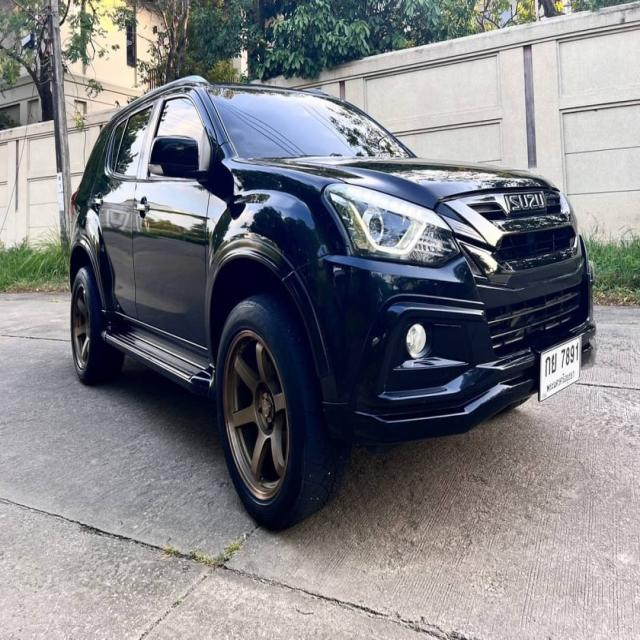license_plate: (531, 330, 587, 405)
